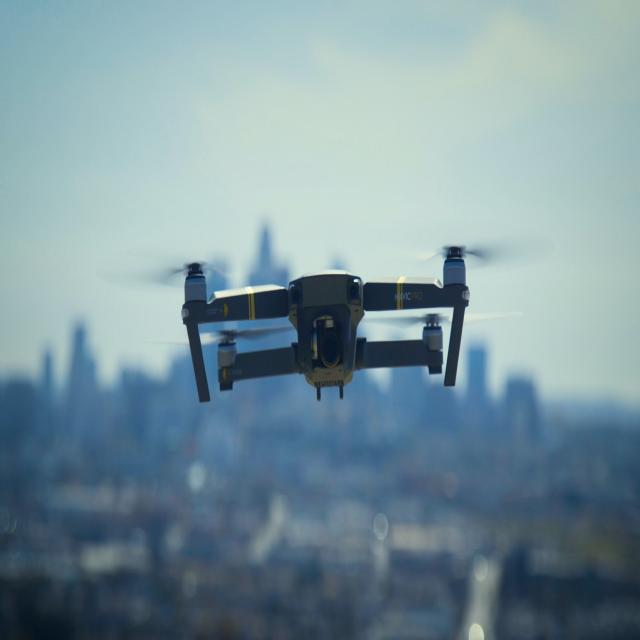drone: (143, 203, 527, 421)
